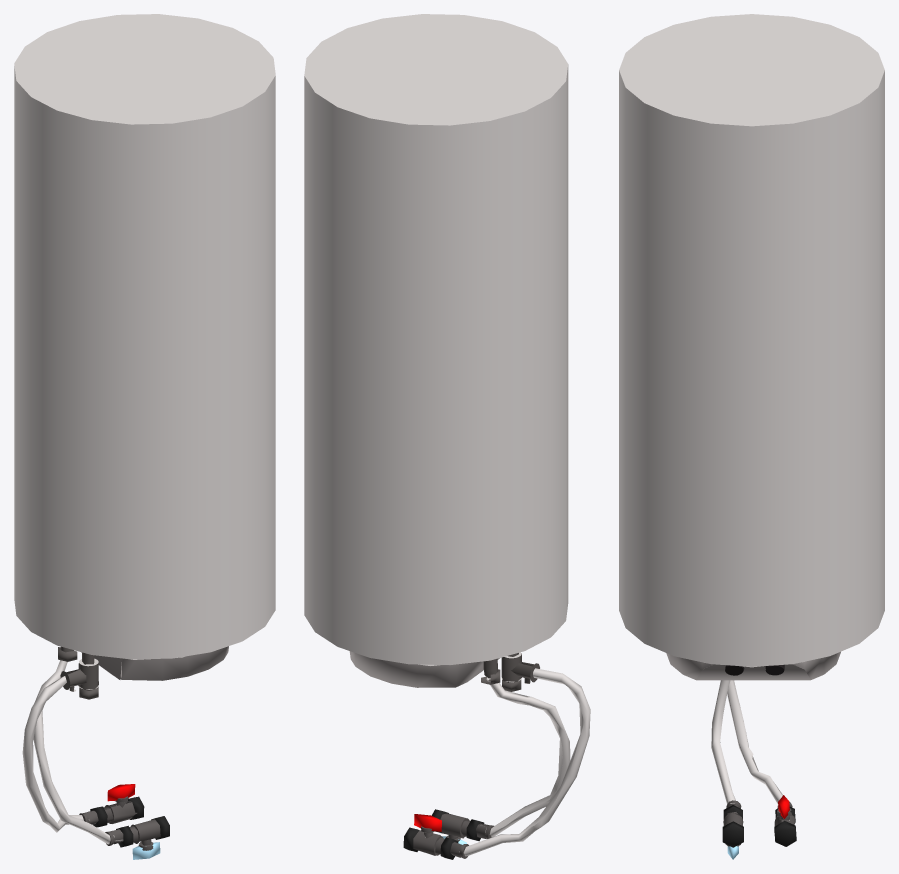
3 renders of one model, left to right at view 1: azimuth 30°, elevation 25°; view 2: azimuth 150°, elevation 25°; view 3: azimuth 270°, elevation 25°, orthographic.
Parts seen in each view (by area): view 1: HeaterWater; view 2: HeaterWater; view 3: HeaterWater.
Part boxes in pixels (x1,y1,x2,y2): HeaterWater: (14,14,275,859); HeaterWater: (304,14,590,859); HeaterWater: (619,14,884,859).
Size of what is drawn, in the model's own units: 0.6027 by 1.79 by 0.5495.
1 material, 1 textured.
